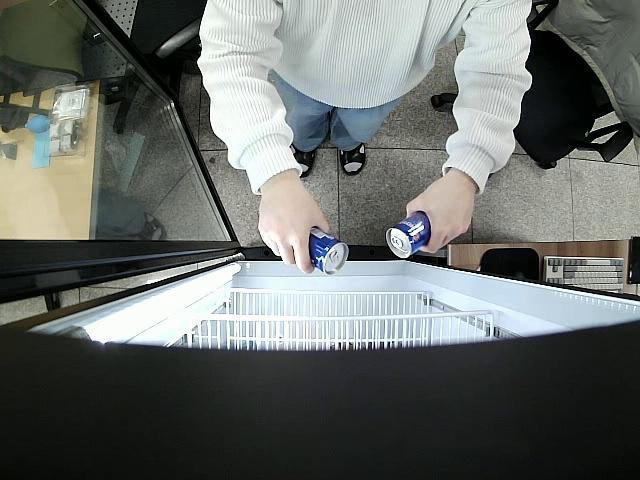16_hot6: (386, 210, 430, 259), (310, 228, 350, 277)
